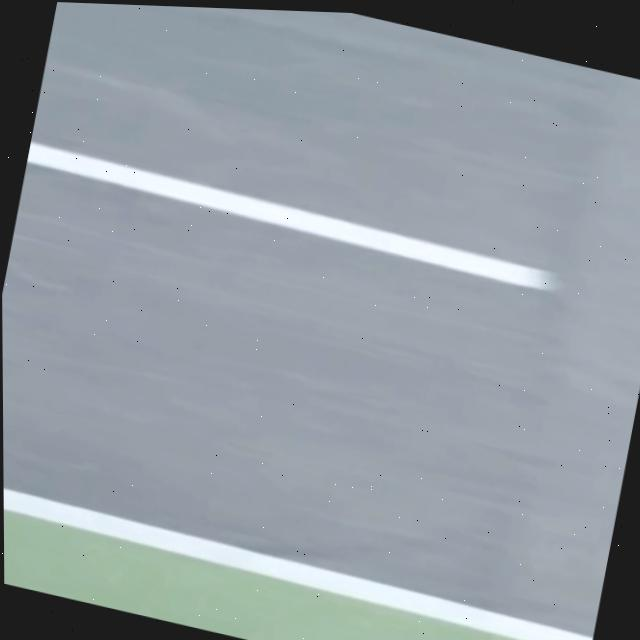center: (26, 141, 555, 290)
right: (4, 488, 593, 640)
